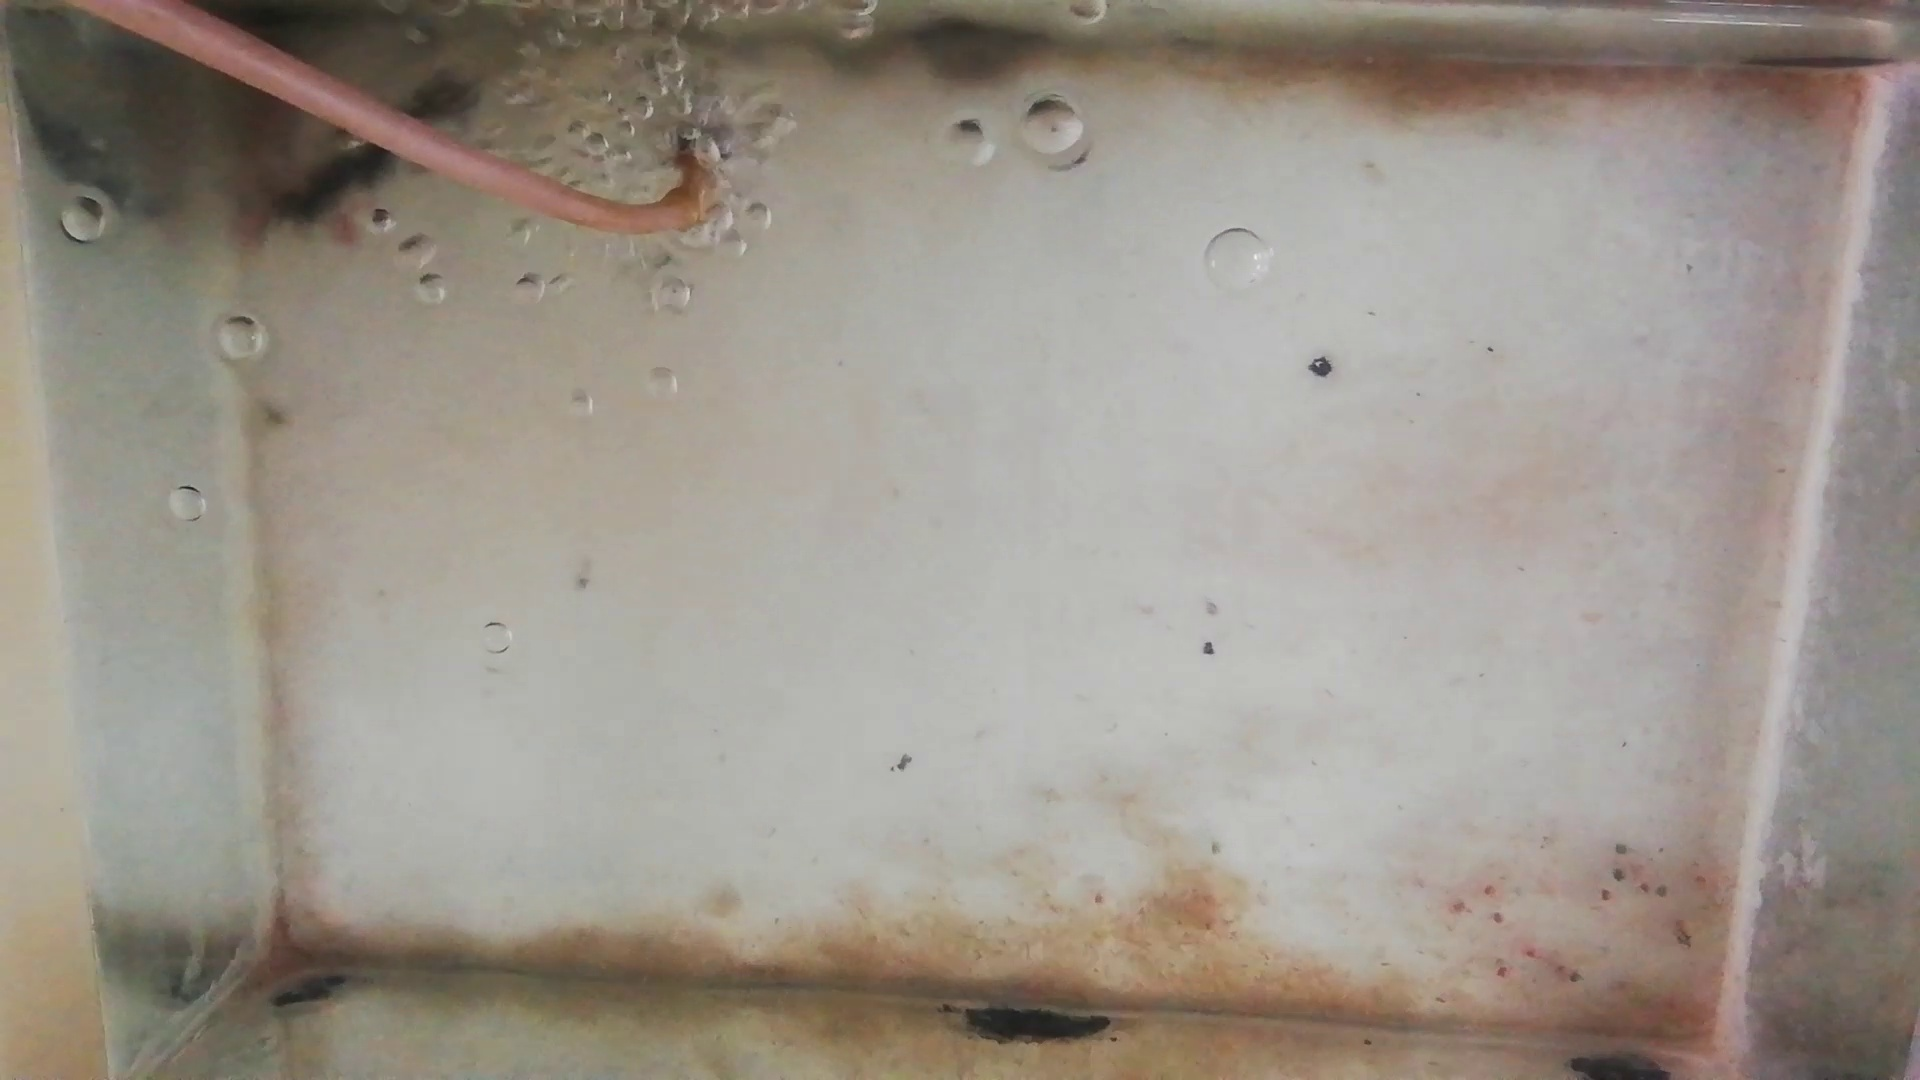fish: (273, 140, 404, 229)
